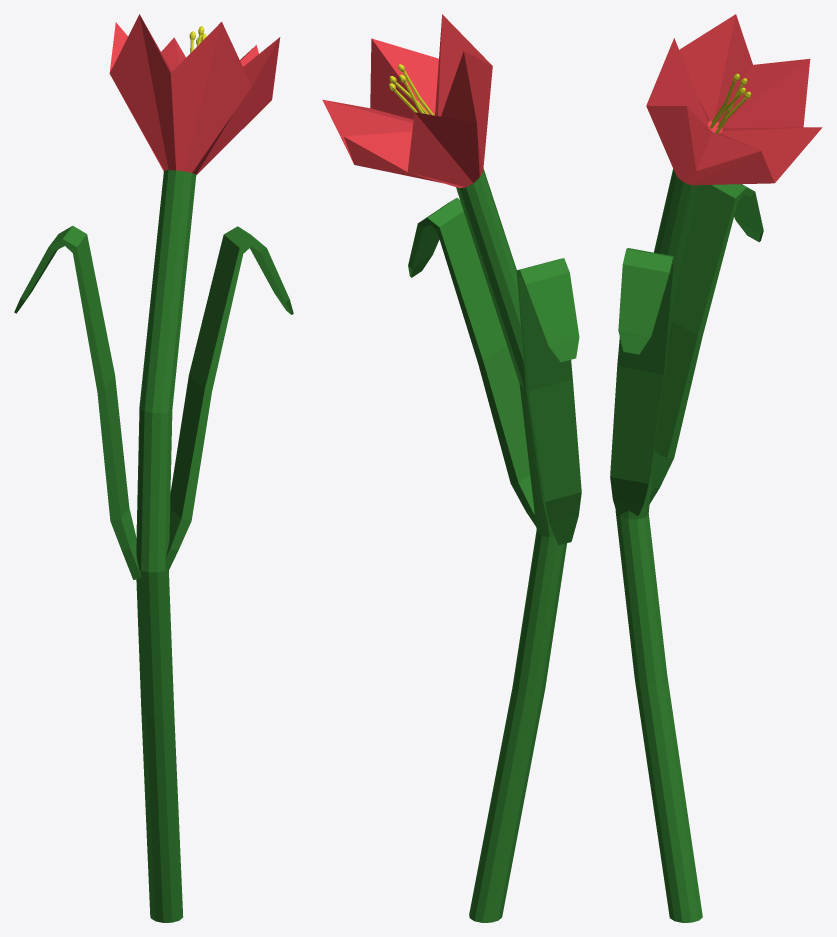
File: ForestFlower3.fbx
3 views of the same model, side by side, from view 1: azimuth 30°, elevation 25°; view 2: azimuth 150°, elevation 25°; view 3: azimuth 270°, elevation 25° (orthographic).
Visible parts, largest first — view 1: Flower3.2; view 2: Flower3.2; view 3: Flower3.2.
Boxes of the visible parts, x1,y1,x2,y2 form: Flower3.2: (14, 14, 293, 922); Flower3.2: (322, 14, 581, 922); Flower3.2: (610, 14, 822, 922).
Bounding box in the file's own units: 26.09 × 89.02 × 19.02.
